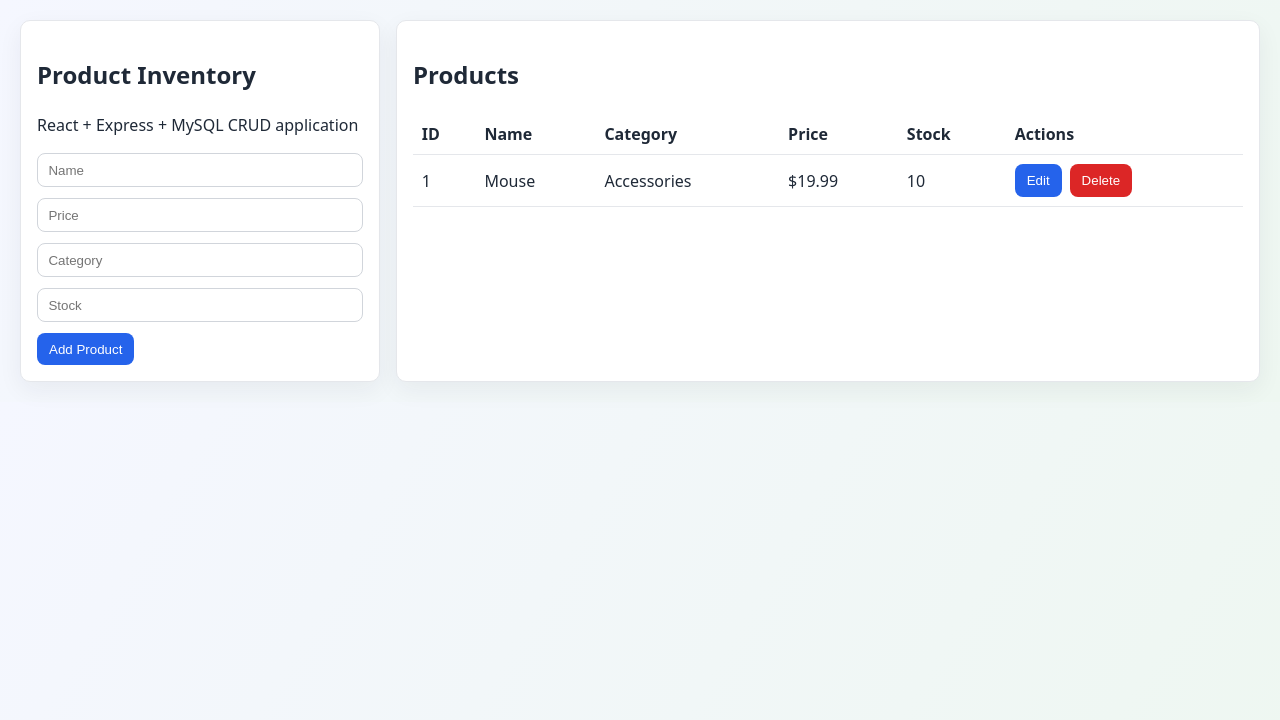
App › allows editing and canceling edit mode
Check: the text "Mouse" is shown, box 476,155 -> 596,206
Click the button "Edit": (1038, 180) 1015,164 -> 1062,197
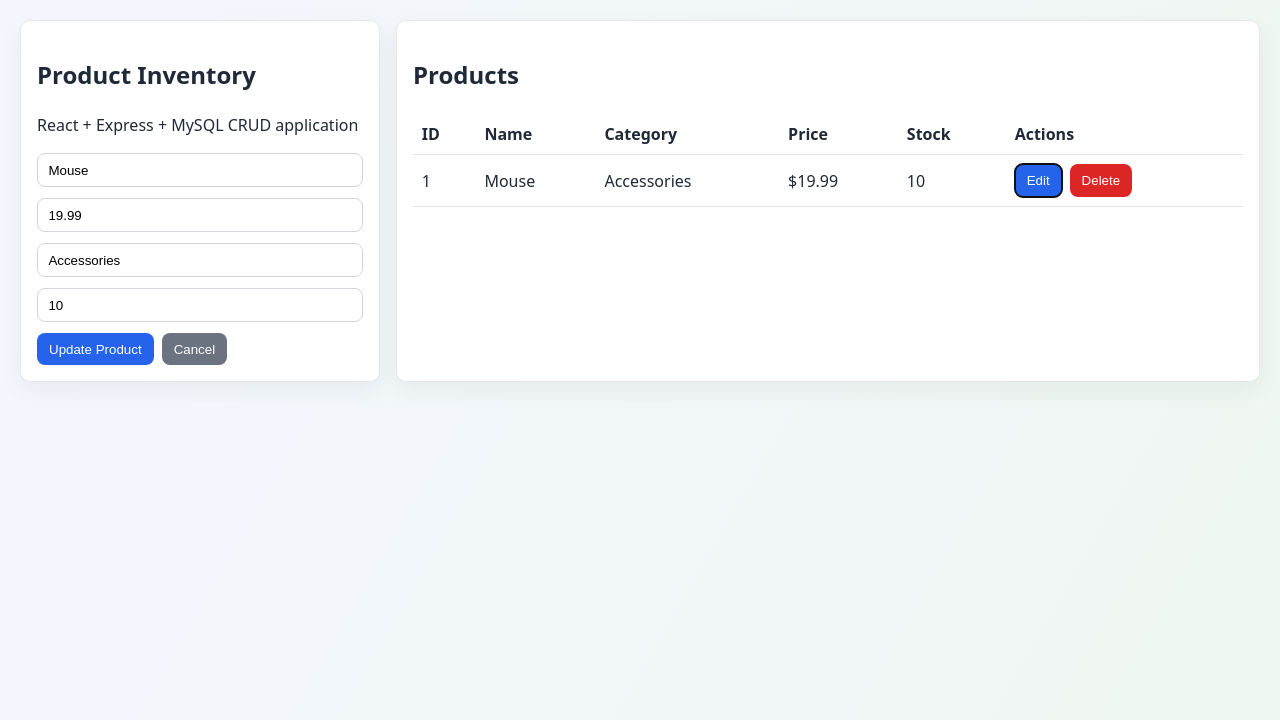
Check: the button "Update Product" is shown, box 37,333 -> 154,365
Check: the 1st field showing "Mouse" is shown, box 37,153 -> 363,187
Click the button "Cancel": (194, 349) 162,333 -> 227,365
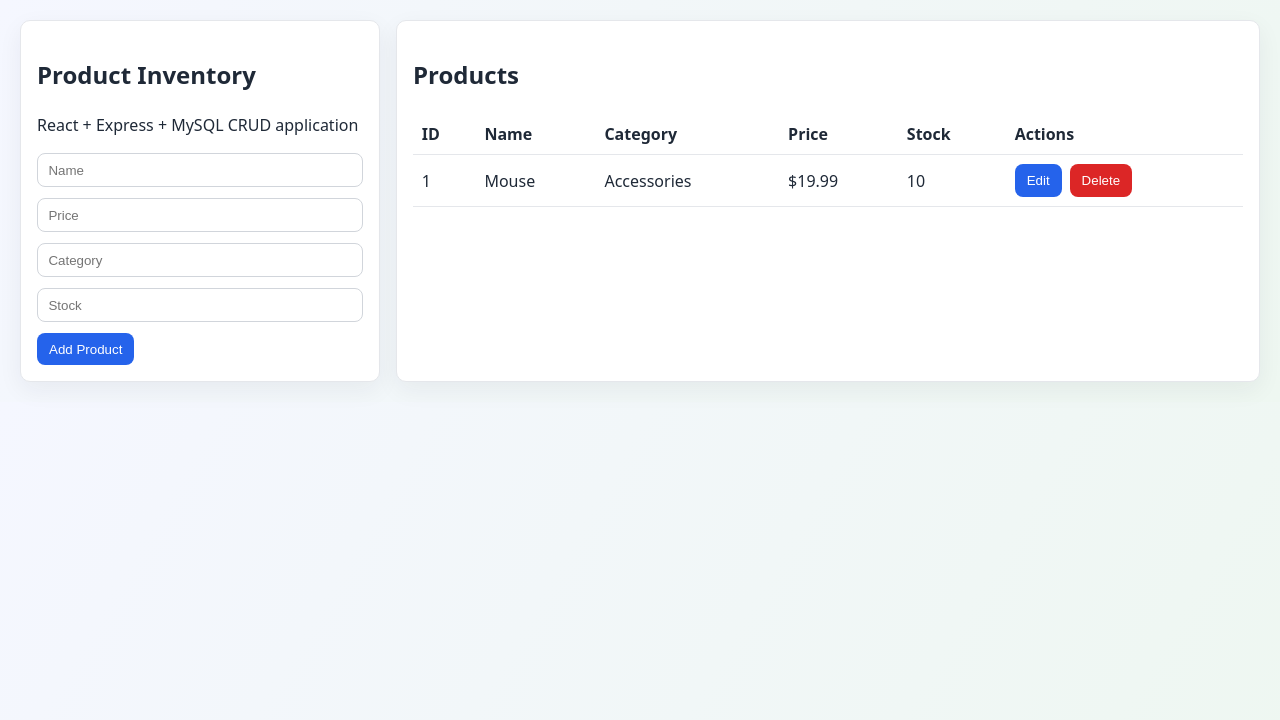
Check: the button "Add Product" is shown, box 37,333 -> 134,365
